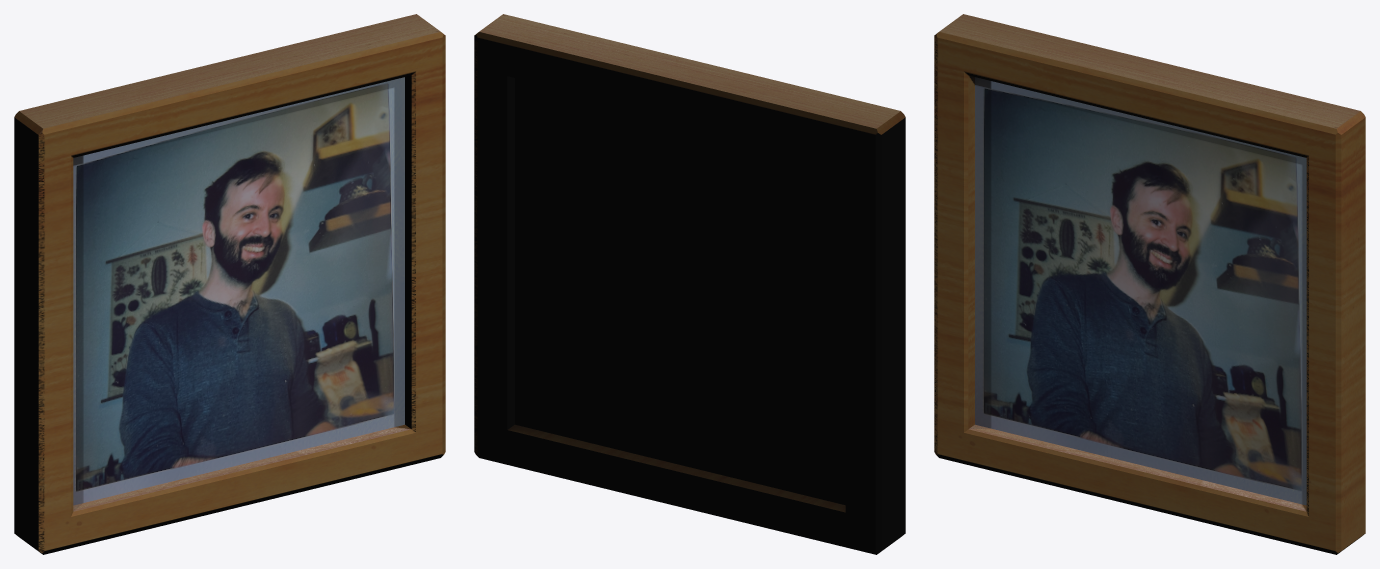
File: picture_bake.glb
3 renders of one model, left to right at view 1: azimuth 30°, elevation 25°; view 2: azimuth 150°, elevation 25°; view 3: azimuth 330°, elevation 25°, orthographic.
Visible parts, largest first — view 1: Portrait; view 2: Portrait; view 3: Portrait.
Boxes of the visible parts, x1,y1,x2,y2 form: Portrait: [14, 14, 445, 554]; Portrait: [474, 14, 905, 554]; Portrait: [934, 14, 1365, 554].
Size of the model in its own units: 1.22 by 1.22 by 0.1403.
1 material, 1 textured.
